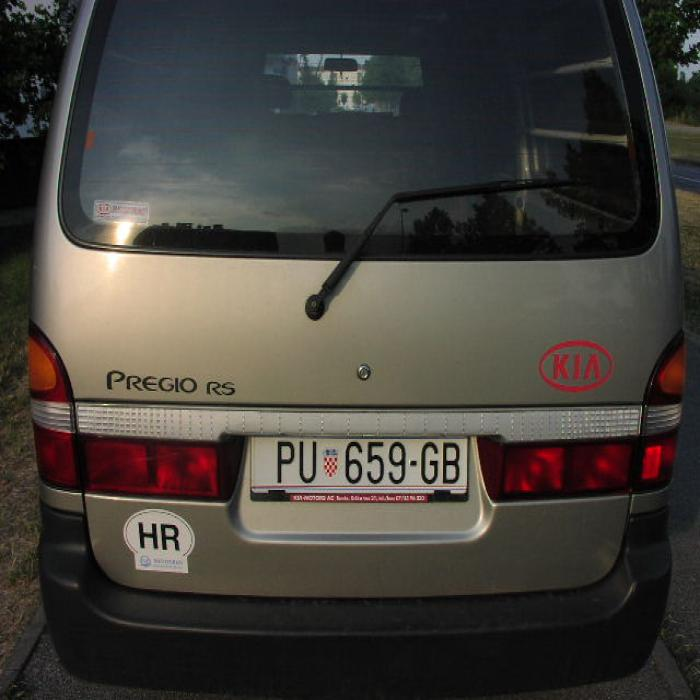number_plate: (251, 433, 467, 489)
